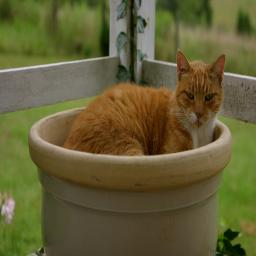catnose: (194, 111, 204, 120)
